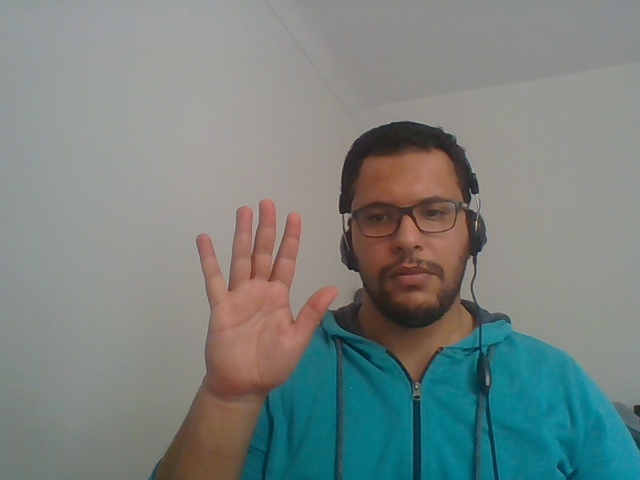hello: (167, 186, 339, 446)
